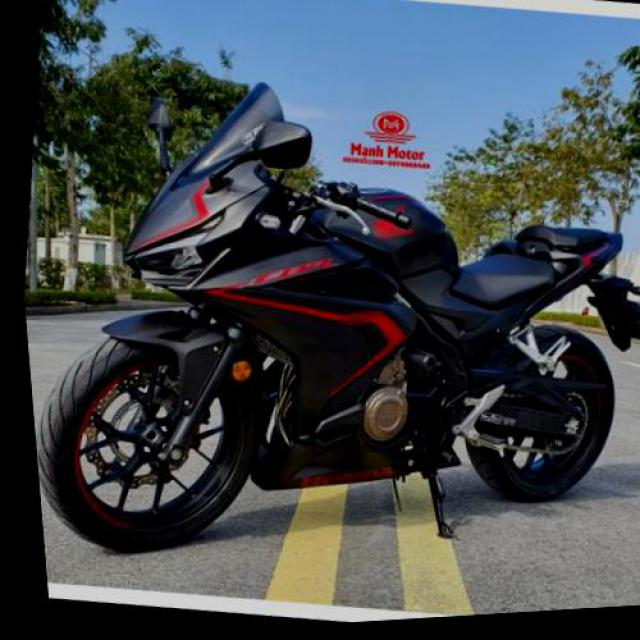CBR500R: (4, 37, 639, 631)
